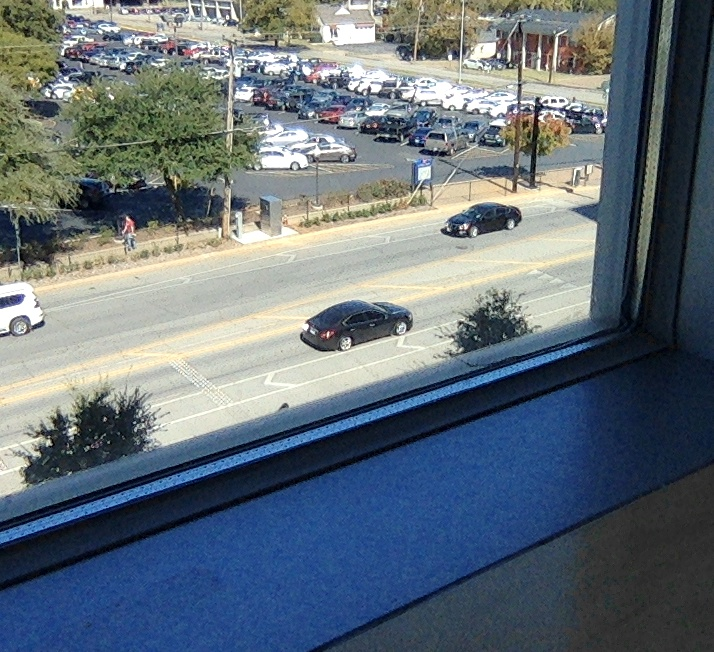car: (300, 300, 414, 352)
